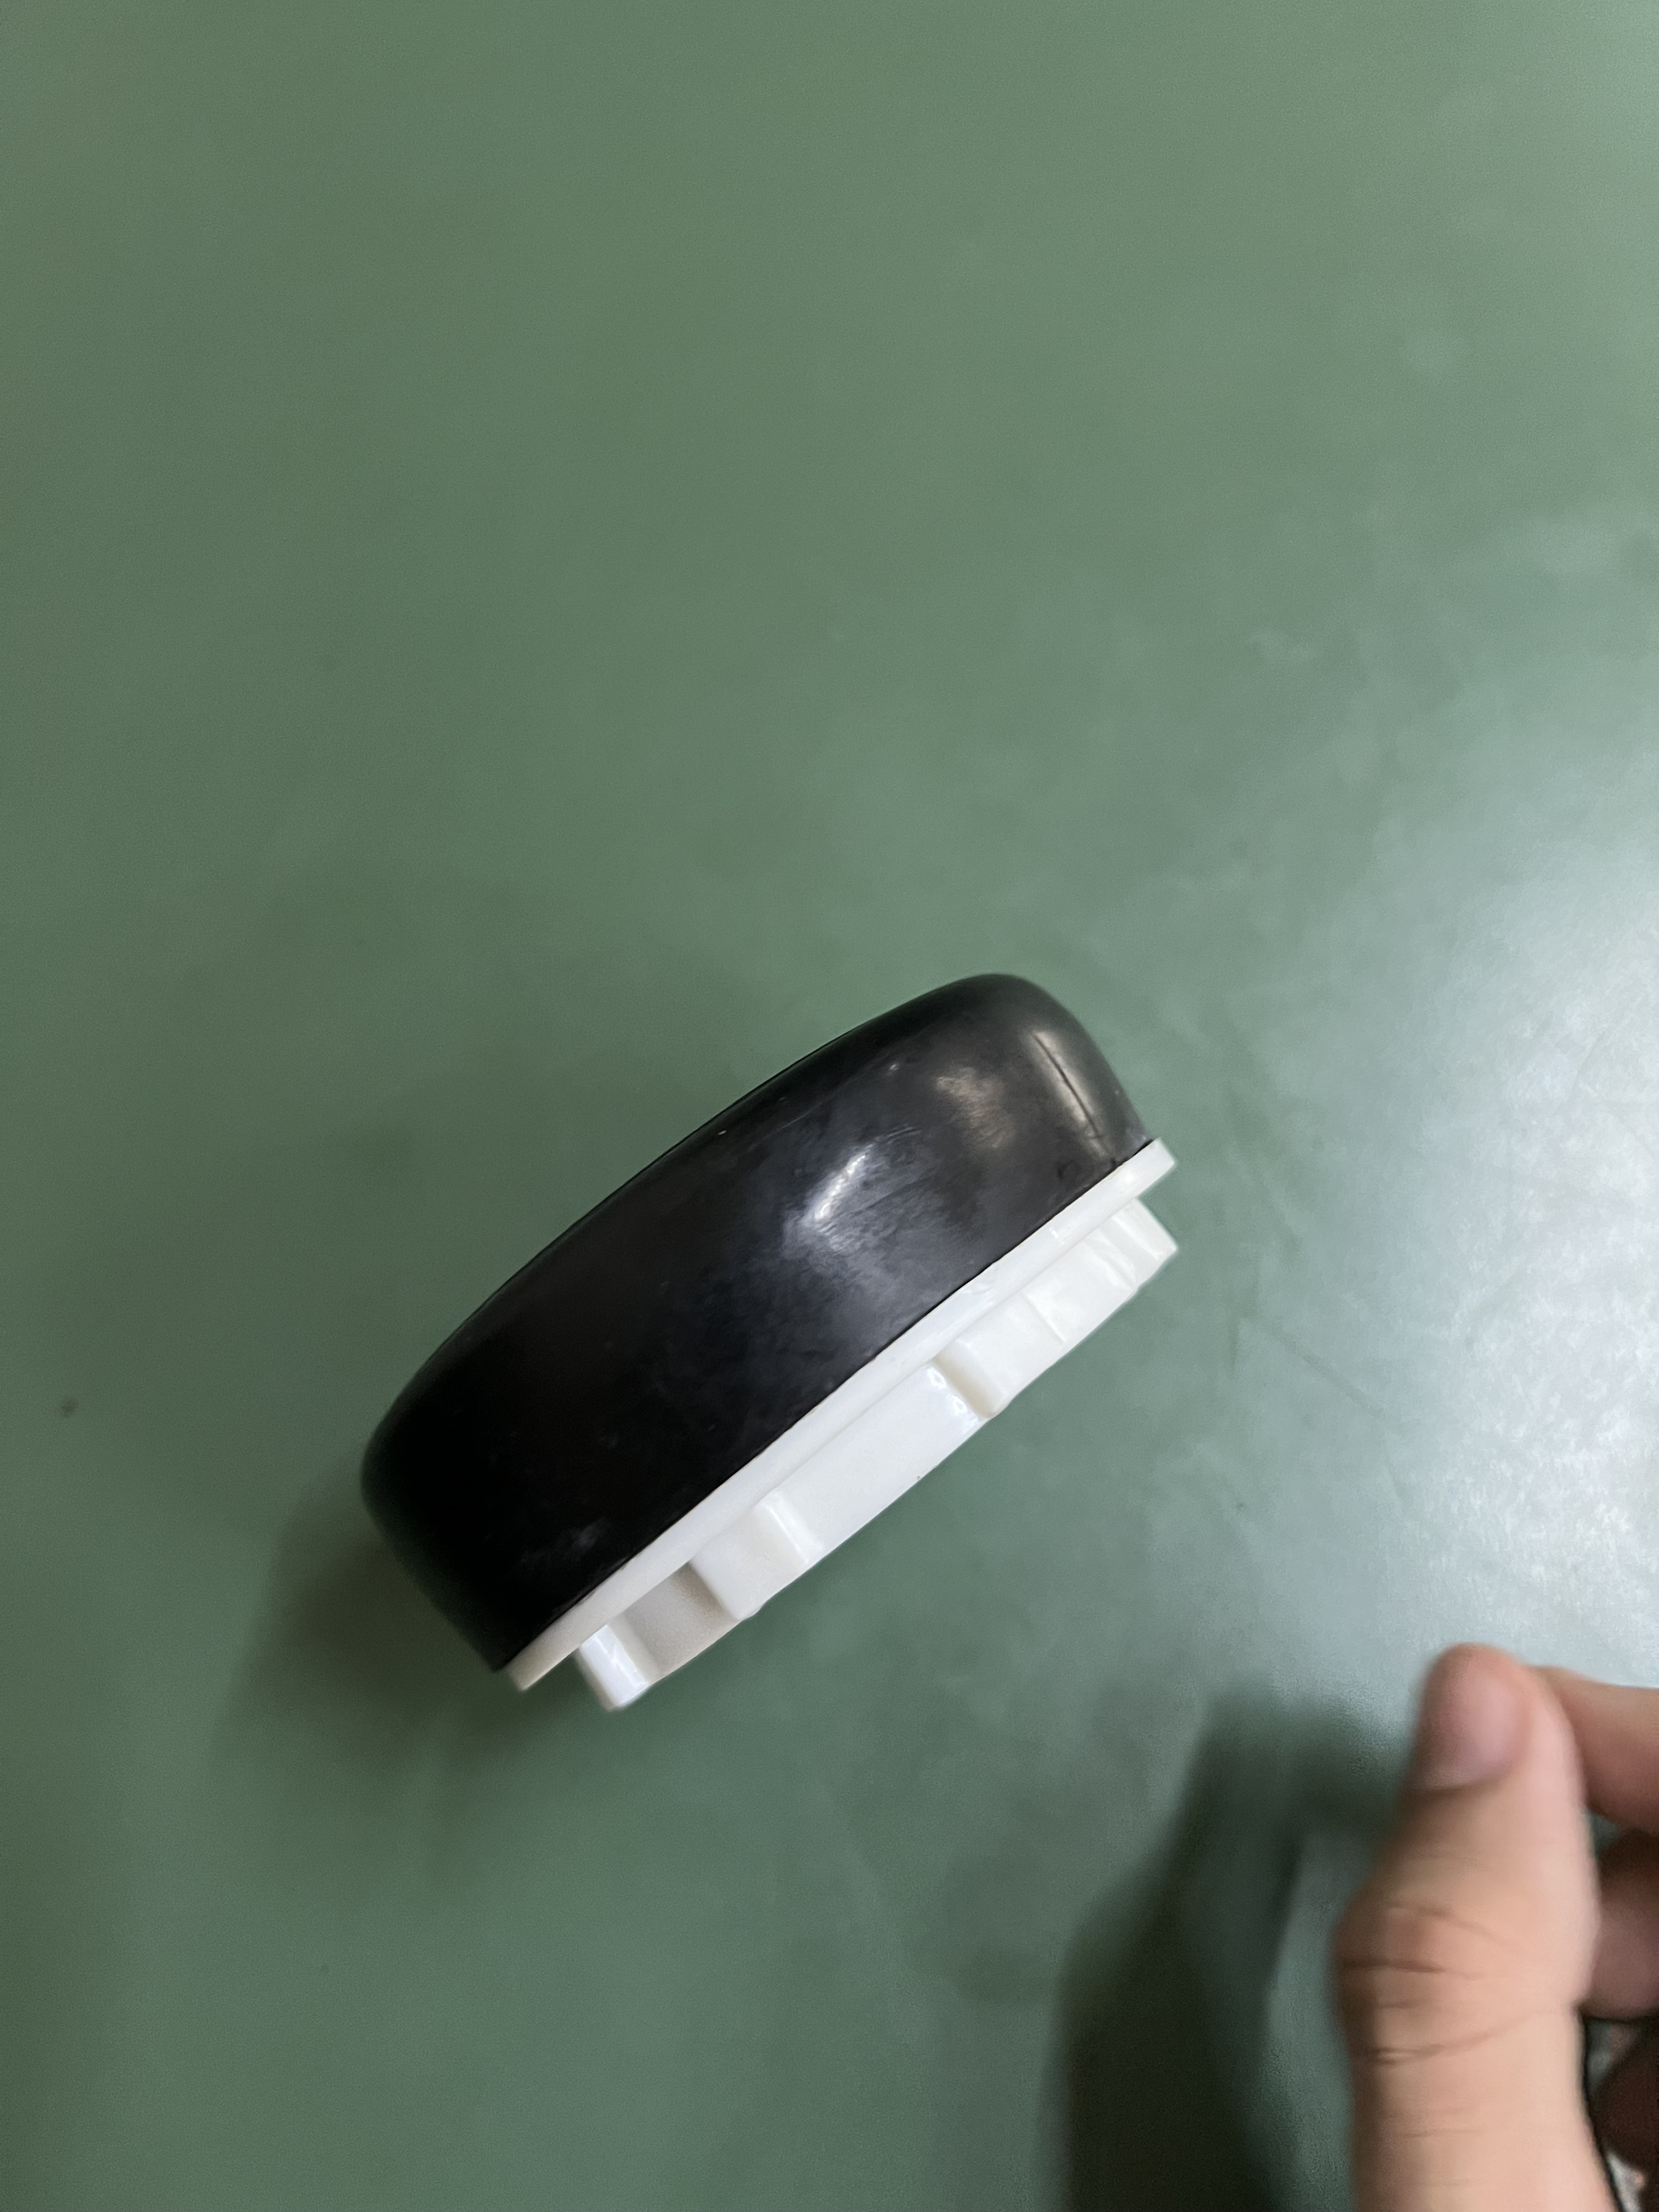lever: (371, 970, 1204, 1698)
